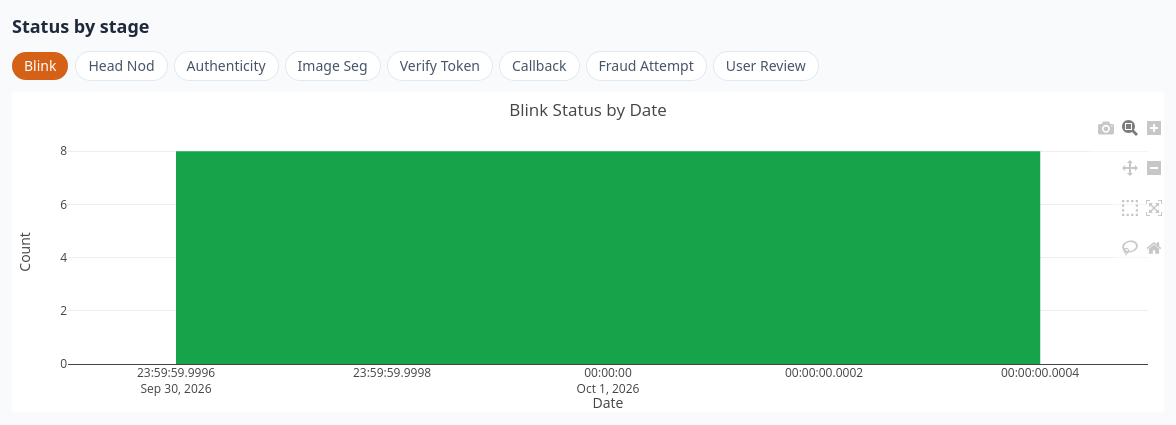
Scenario: StageTabs › shows an empty state when a stage has no data
The image size is (1176, 425).
What coordinates should you click on to do the following:
click the tab "Authenticity"
I would click on:
 (226, 66)
Its box is [174, 52, 278, 80].
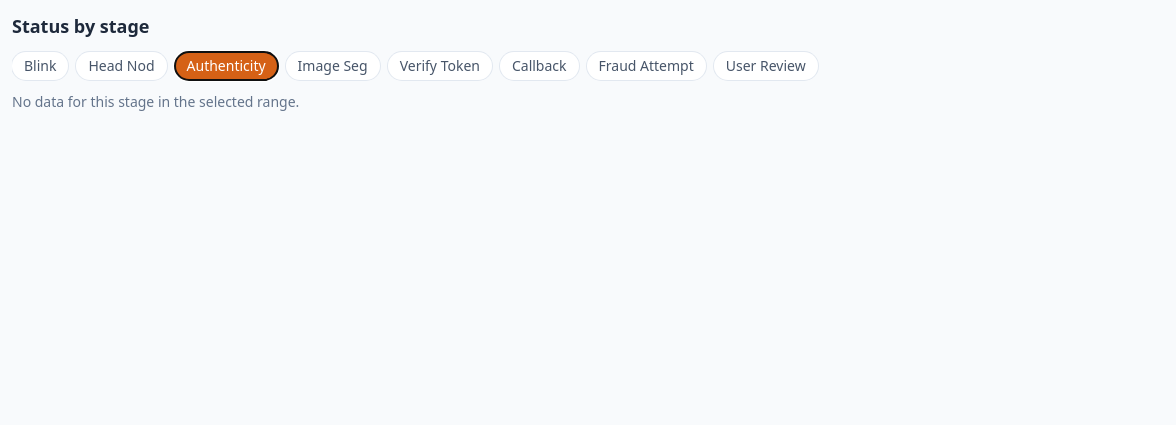
Result: the text "No data for this stage in the selected range." is shown at [12, 92, 299, 111]
